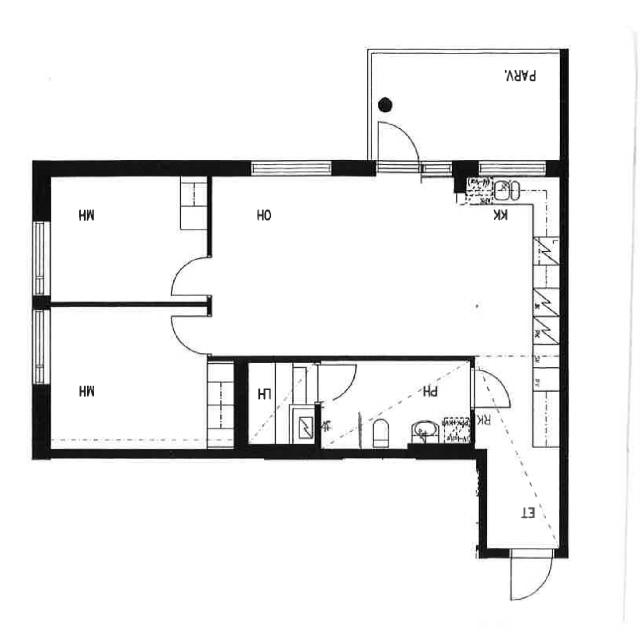door: (378, 117, 419, 177), (510, 549, 550, 600), (171, 258, 213, 296), (314, 364, 356, 402), (471, 370, 512, 408), (172, 317, 213, 354)
